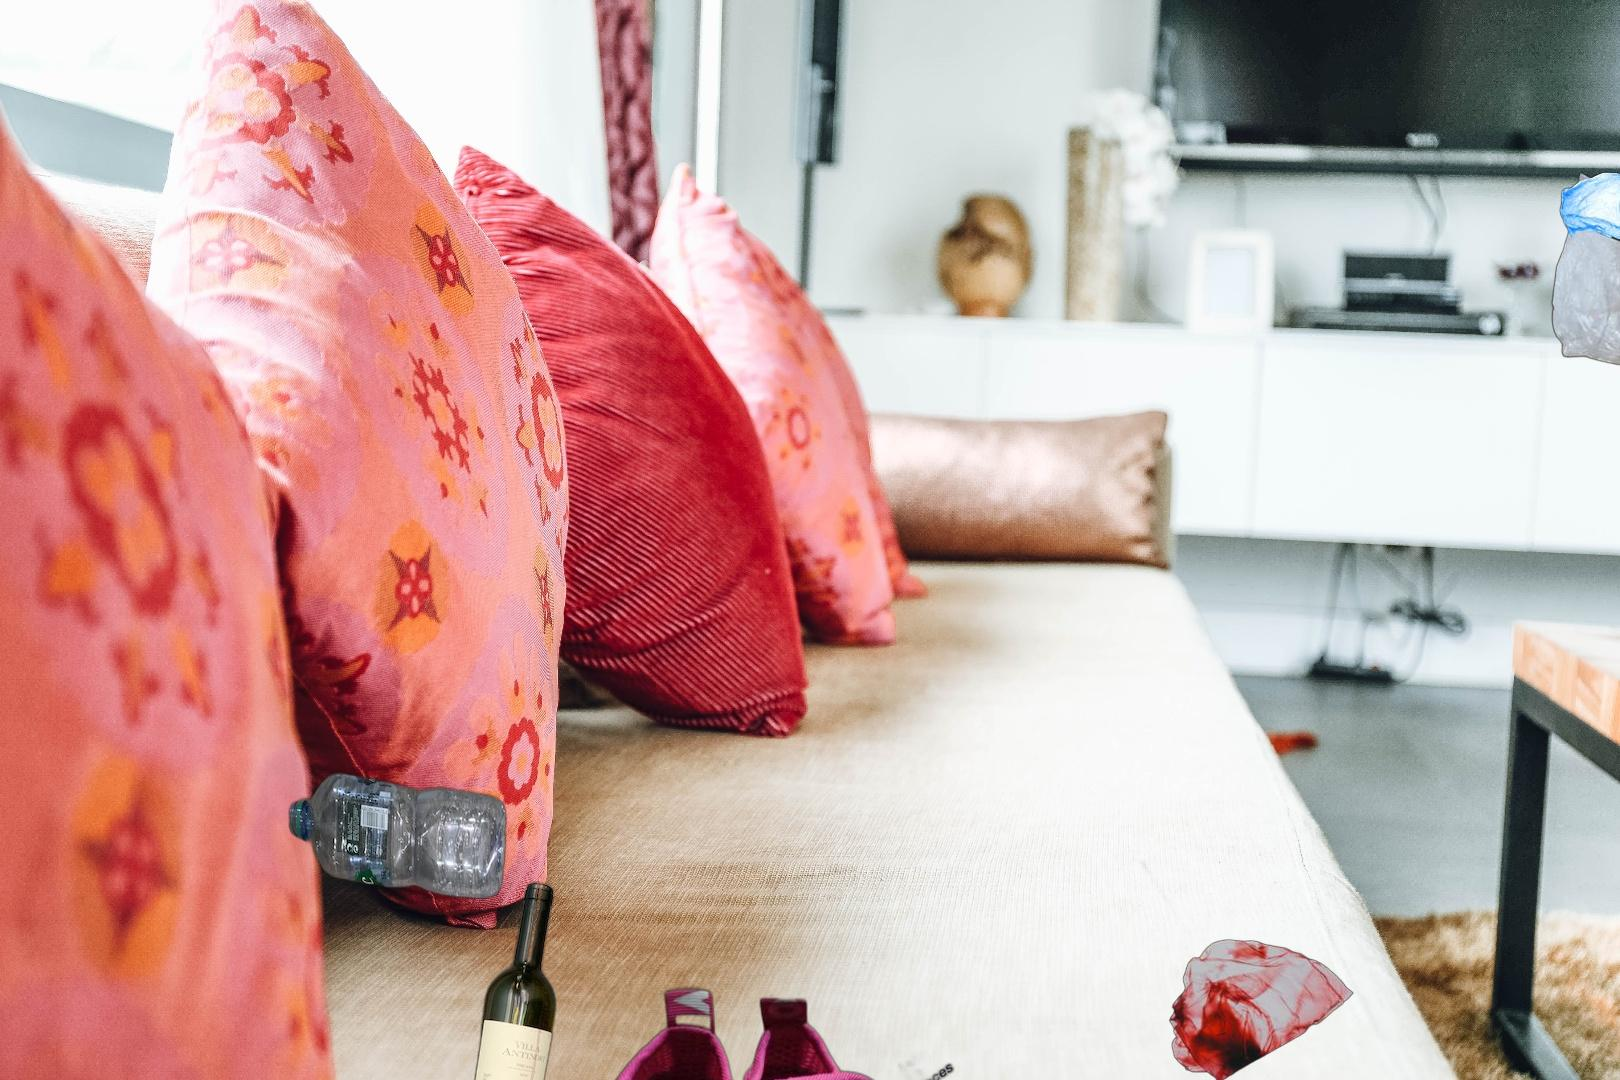glass: (457, 877, 560, 1080)
paper: (747, 858, 1195, 1080)
plastic-bag: (1168, 937, 1356, 1080), (1549, 170, 1620, 370)
plastic-bottles: (284, 767, 510, 904)
shoes: (556, 984, 884, 1080)
